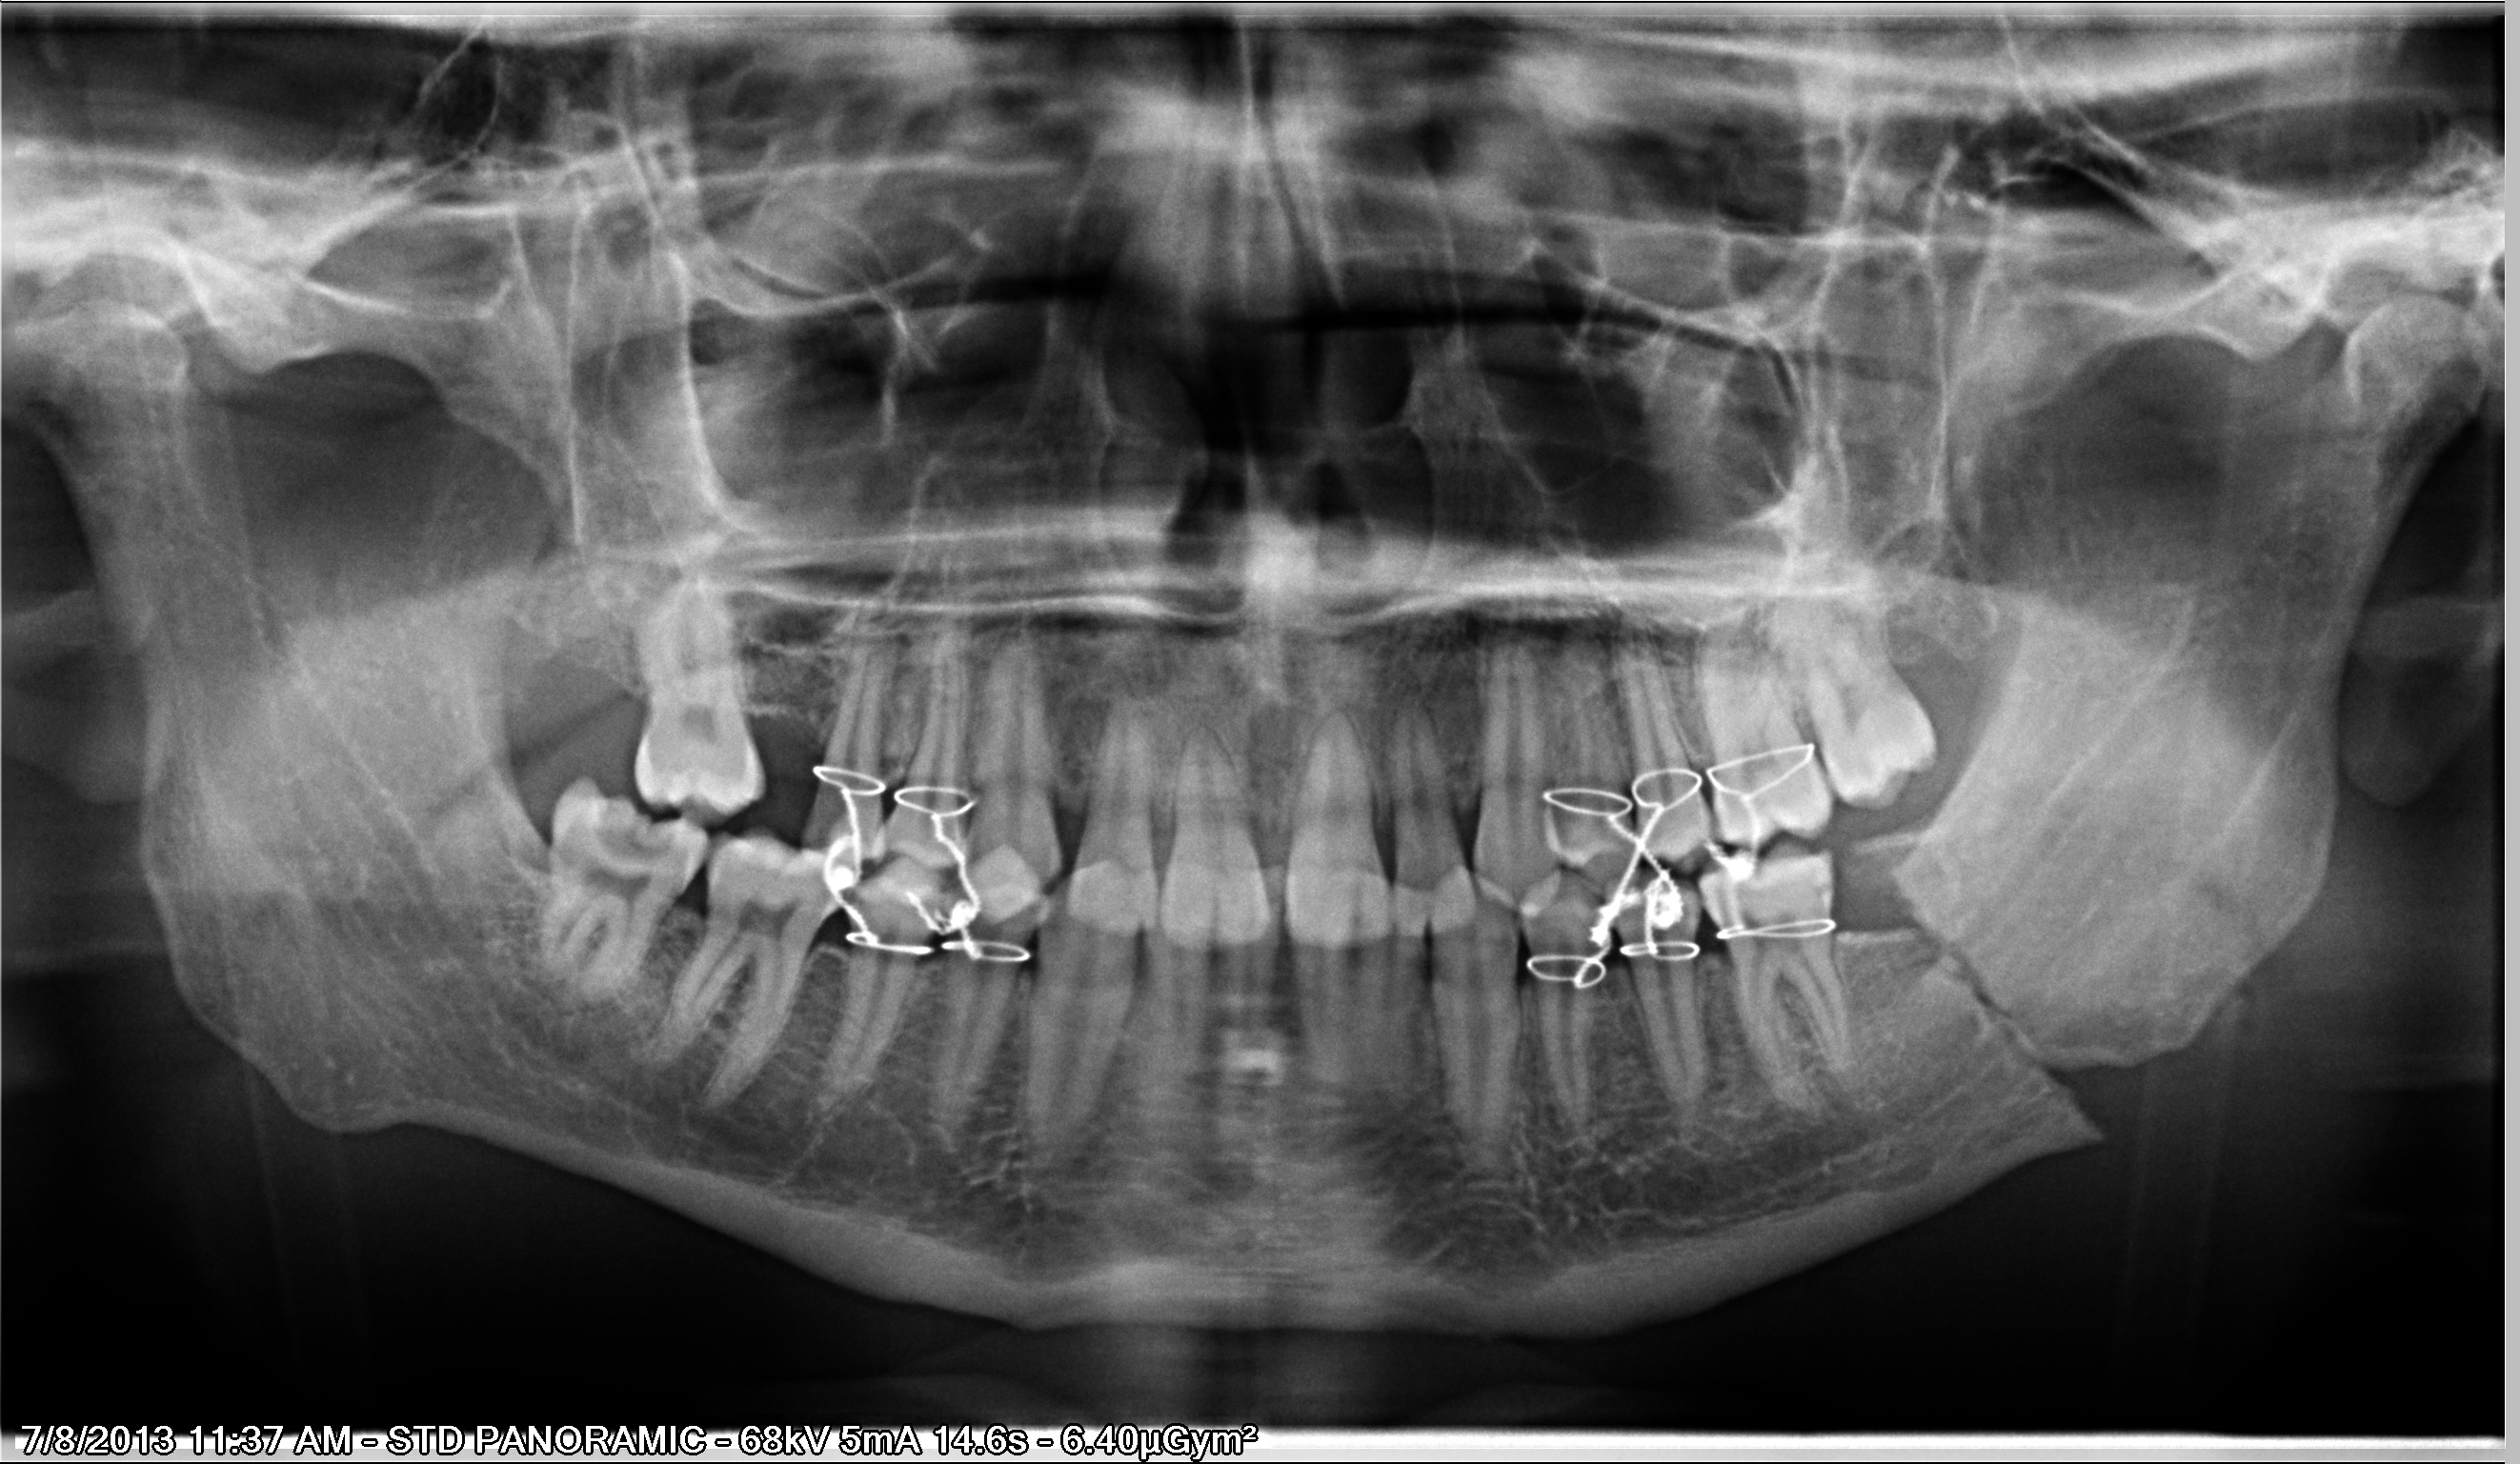SRD: (1527, 734, 1840, 993), (894, 779, 1032, 966), (805, 767, 922, 960)
